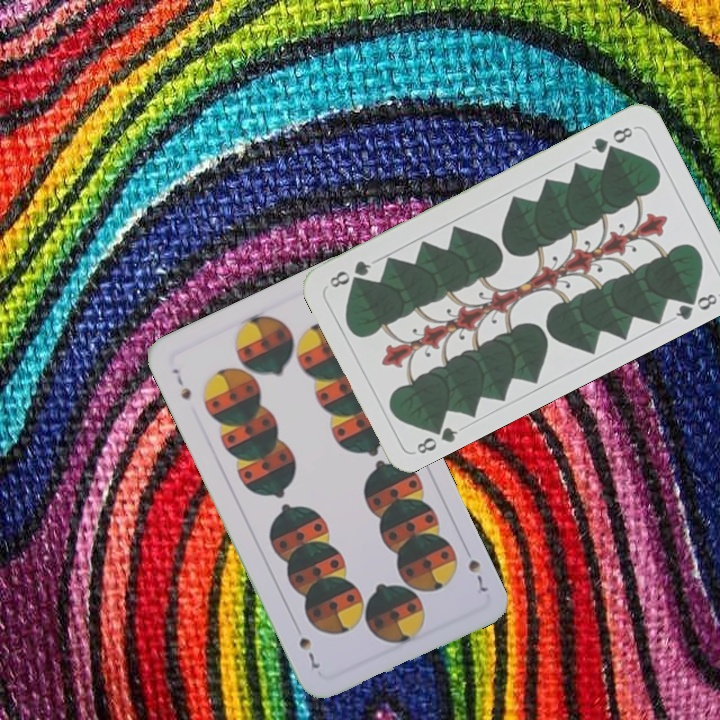G8: (412, 417, 461, 457), (586, 122, 638, 156)
S7: (464, 555, 491, 597), (167, 364, 194, 403)
